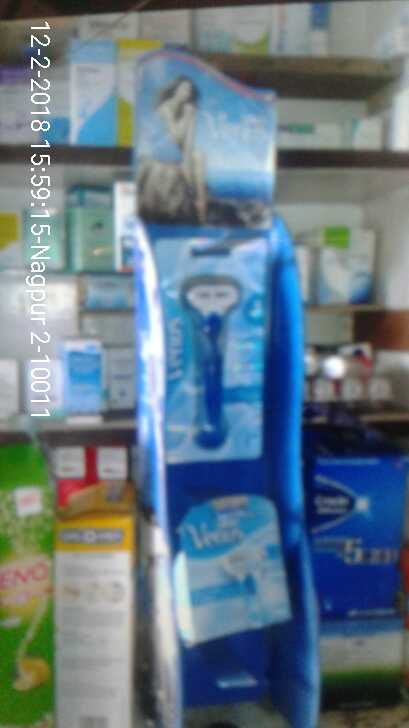venus: (155, 238, 264, 457), (176, 490, 298, 637)
